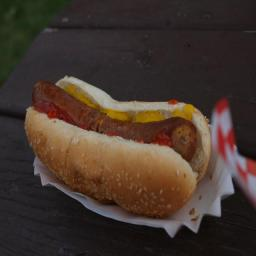hotdog: (26, 67, 214, 233)
